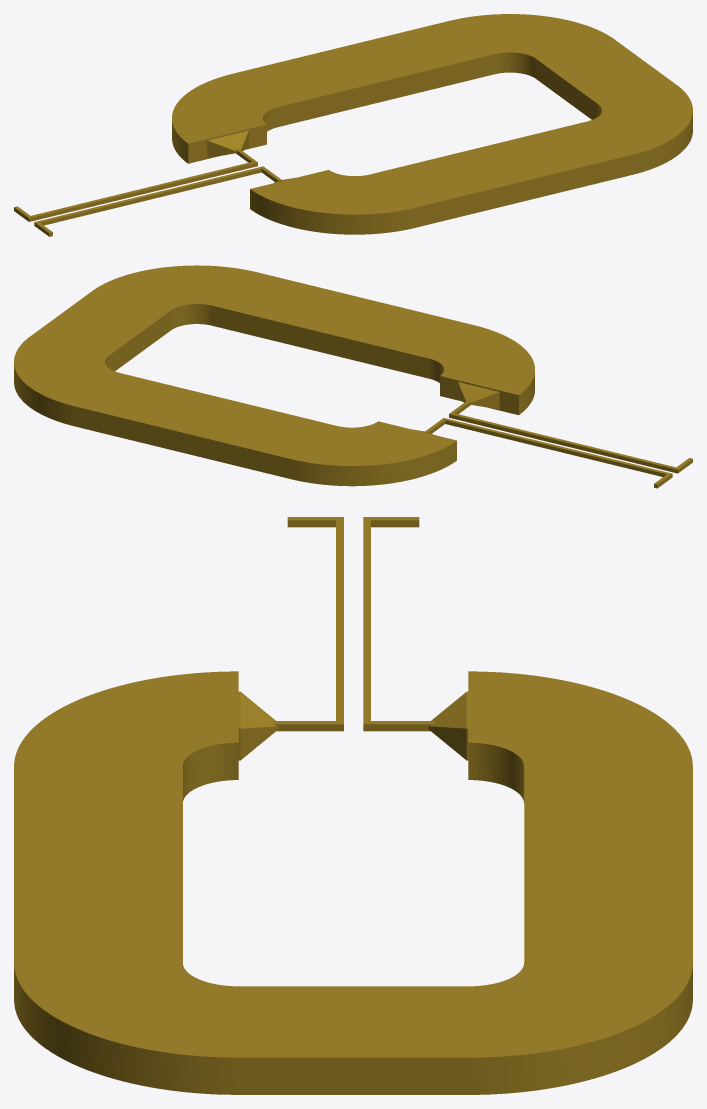
File: DC_gen coil.gltf
The picture shows the model from 3 angles, top to bottom: view 1: azimuth 30°, elevation 25°; view 2: azimuth 150°, elevation 25°; view 3: azimuth 270°, elevation 25°; orthographic projection. The views are drawn at different scales.
Visible parts, largest first — view 1: Cube.014, Cube.011, Cube.015, Cube.009, Cube.012, Cube.013, Cube.010, Cube.021, Cube.020, Cube.017; view 2: Cube.011, Cube.014, Cube.012, Cube.009, Cube.015, Cube.010, Cube.013, Cube.020, Cube.021, Cube.016; view 3: Cube.011, Cube.014, Cube.009, Cube.013, Cube.010, Cube.012, Cube.015, Cube.020, Cube.021, Cube.016, Cube.017.
Part boxes in pixels (x1,y1,x2,y2): Cube.014: [369, 121, 632, 227]; Cube.011: [232, 20, 495, 126]; Cube.015: [250, 170, 415, 234]; Cube.009: [535, 39, 676, 119]; Cube.012: [172, 74, 277, 163]; Cube.013: [587, 85, 692, 174]; Cube.010: [450, 14, 614, 77]; Cube.021: [27, 161, 257, 221]; Cube.020: [34, 166, 264, 225]; Cube.017: [207, 130, 248, 157]; Cube.011: [73, 373, 337, 479]; Cube.014: [211, 272, 475, 378]; Cube.012: [292, 421, 456, 486]; Cube.009: [30, 291, 171, 371]; Cube.015: [429, 325, 534, 415]; Cube.010: [14, 337, 118, 425]; Cube.013: [93, 265, 256, 329]; Cube.020: [449, 412, 679, 473]; Cube.021: [442, 418, 671, 476]; Cube.016: [458, 382, 499, 409]; Cube.011: [524, 765, 692, 971]; Cube.014: [14, 765, 182, 963]; Cube.009: [236, 986, 471, 1094]; Cube.013: [14, 962, 238, 1094]; Cube.010: [468, 962, 692, 1094]; Cube.012: [468, 671, 692, 803]; Cube.015: [14, 671, 238, 800]; Cube.020: [336, 517, 343, 731]; Cube.021: [363, 517, 370, 731]; Cube.016: [238, 691, 278, 760]; Cube.017: [428, 691, 468, 760].
Size of the model in its own units: 6.99 by 0.2188 by 3.61.
